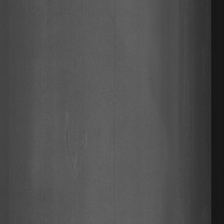silk_spot: (55, 109, 94, 182)
